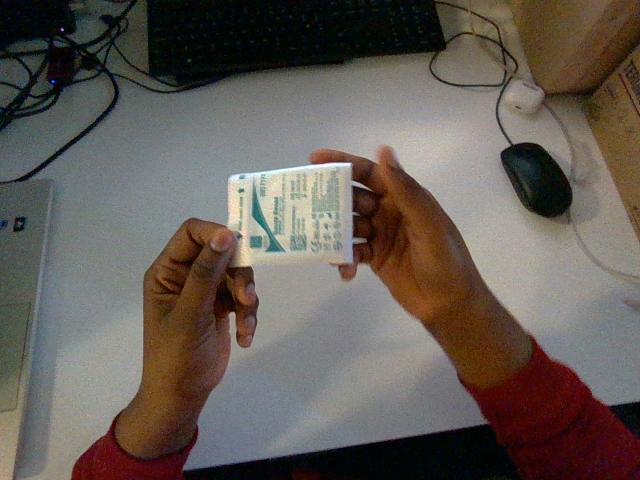gauze: (228, 163, 352, 266)
